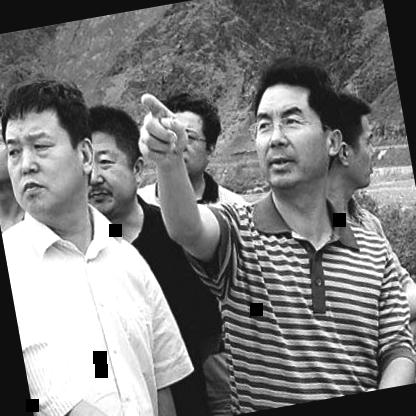head: (0, 62, 114, 237), (237, 54, 354, 202), (70, 94, 158, 226), (157, 84, 229, 184), (330, 92, 387, 196), (0, 100, 18, 187)
